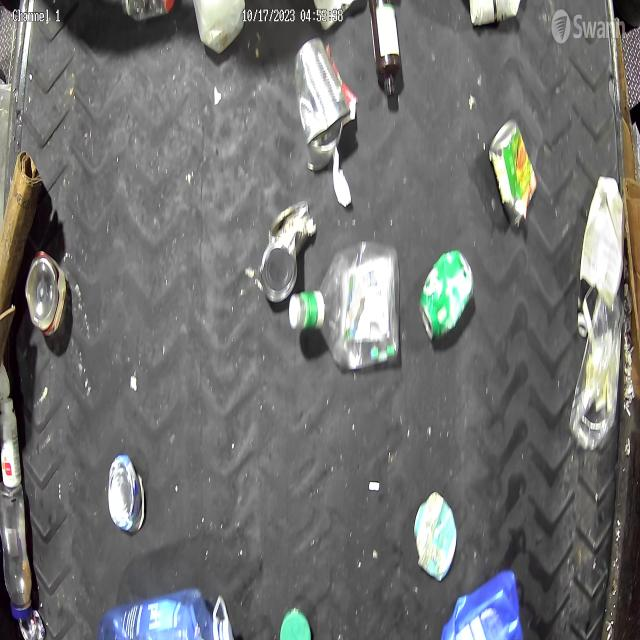can: (294, 35, 350, 173), (261, 198, 311, 306), (490, 119, 539, 227), (420, 249, 474, 341), (25, 246, 65, 334), (108, 450, 146, 533)
non_white_jug: (97, 589, 236, 640), (440, 566, 527, 638)
plastic_bottle: (289, 245, 402, 372), (0, 480, 33, 621)
